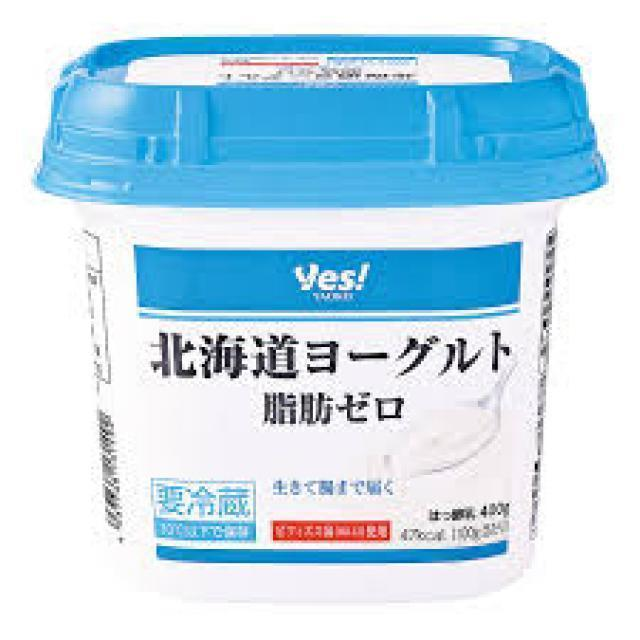Plastic: (35, 31, 608, 562)
